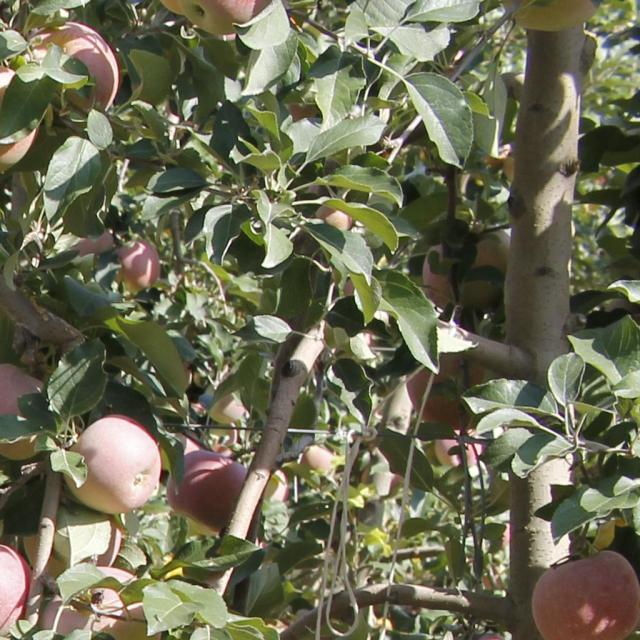100-_ripeness: (65, 416, 162, 515), (532, 550, 638, 640), (40, 566, 160, 640), (30, 21, 119, 110), (421, 230, 511, 313), (167, 452, 247, 532), (22, 514, 122, 578), (407, 353, 483, 429), (1, 363, 42, 459), (1, 65, 38, 171), (1, 544, 30, 638), (176, 1, 258, 34), (115, 236, 160, 293), (516, 1, 598, 28), (434, 427, 482, 466), (204, 383, 244, 423), (73, 229, 114, 255), (264, 468, 289, 501), (300, 444, 332, 469), (455, 630, 508, 640)
